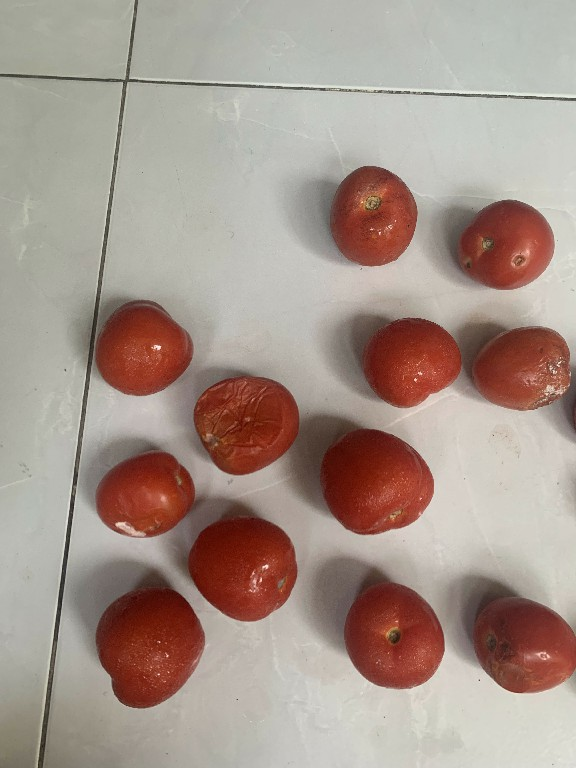NG: (464, 584, 575, 712), (442, 188, 556, 298), (189, 370, 302, 480), (319, 152, 420, 275), (78, 445, 201, 540), (469, 318, 570, 424)
OK: (84, 580, 205, 718), (333, 577, 450, 701), (317, 424, 433, 541), (84, 289, 200, 402), (362, 306, 467, 419), (184, 518, 300, 619)
